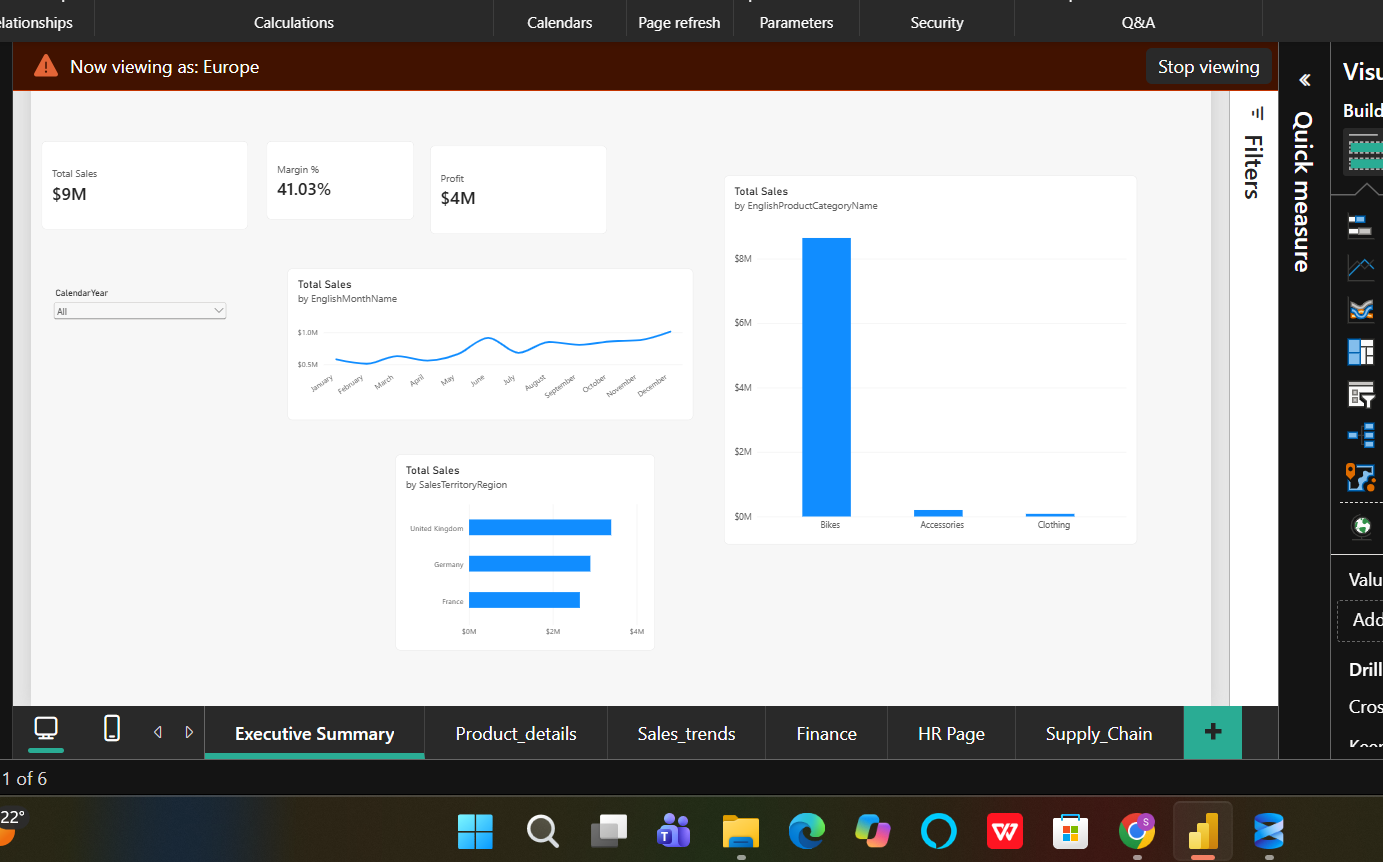

What the dashboard file says about the page in this screenshot:
{"tool":"powerbi","page":{"name":"Executive Summary","canvas":[1920,1080],"ordinal":0},"visuals":[{"type":"cardVisual","fields":{"Data":["Sales.Margin %"]},"box":[384,160,240,128],"z":0},{"type":"cardVisual","fields":{"Data":["Sales.Profit"]},"box":[648,168,288,144],"z":1000},{"type":"cardVisual","fields":{"Data":["Sales.Total Sales"]},"box":[16,160,336,144],"z":2000},{"type":"slicer","fields":{"Values":["Date.CalendarYear"]},"box":[32,400,291.2,140],"z":3000},{"type":"lineChart","fields":{"Category":["Date.EnglishMonthName"],"Y":["Sales.Total Sales"]},"box":[416,368,660,246.7],"z":4000},{"type":"clusteredBarChart","fields":{"Category":["Territory.SalesTerritoryRegion"],"Y":["Sales.Total Sales"]},"box":[592,672,421.7,318.3],"z":5000},{"type":"textbox","box":[96,14,150,192],"z":6000},{"type":"textbox","box":[240,24,768,96],"z":7000},{"type":"clusteredColumnChart","fields":{"Category":["Product.EnglishProductCategoryName"],"Y":["Sales.Total Sales"]},"box":[1128,216,672,600],"z":8000}]}

Visuals, with their boxes on the page's 1920x1080 design canvas (x1, y1, x2, y2). These are canvas units, not pixel positions in the 1383x862 screenshot, which may show the page scaled, cropped or inside an application window:
cardVisual - Sales.Margin %: pyautogui.locateOnScreen(384, 160, 624, 288)
cardVisual - Sales.Profit: pyautogui.locateOnScreen(648, 168, 936, 312)
cardVisual - Sales.Total Sales: pyautogui.locateOnScreen(16, 160, 352, 304)
slicer - Date.CalendarYear: pyautogui.locateOnScreen(32, 400, 323, 540)
lineChart - Date.EnglishMonthName x Sales.Total Sales: pyautogui.locateOnScreen(416, 368, 1076, 615)
clusteredBarChart - Territory.SalesTerritoryRegion x Sales.Total Sales: pyautogui.locateOnScreen(592, 672, 1014, 990)
textbox: pyautogui.locateOnScreen(96, 14, 246, 206)
textbox: pyautogui.locateOnScreen(240, 24, 1008, 120)
clusteredColumnChart - Product.EnglishProductCategoryName x Sales.Total Sales: pyautogui.locateOnScreen(1128, 216, 1800, 816)
